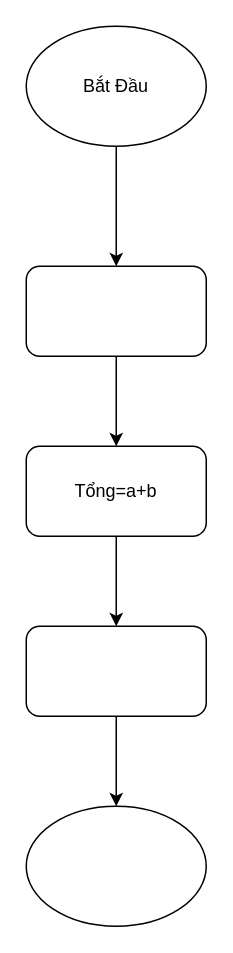
The diagram is 233 pixels wide and 953 high, and some of its shapes have lost their labels. The centre of each missing label's shape, as x and y in pixels:
"Hiển thị tổng" belongs at (115,670).
"Nhập số a và b" belongs at (115,310).
